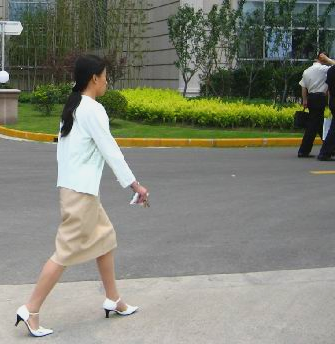pedestrian: (15, 58, 148, 336), (295, 52, 334, 158)
